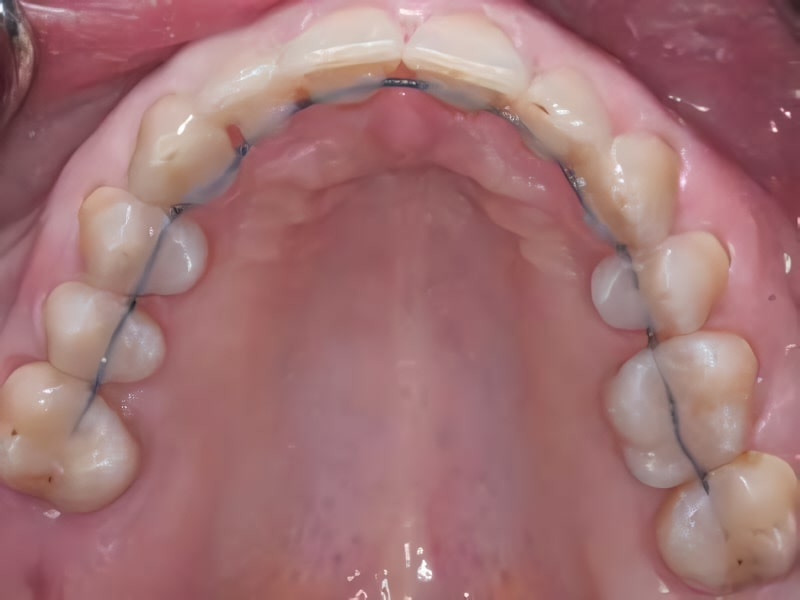UL1BC_decay: (580, 234, 737, 339)
UL1M_decay: (652, 452, 800, 594)
UL2BC_decay: (603, 327, 752, 490)
ULCI_decay: (401, 1, 522, 126)
ULC_decay: (561, 136, 699, 245)
ULLI_decay: (527, 52, 607, 176)
UR1BC_decay: (78, 187, 211, 305)
UR1M_decay: (1, 361, 146, 516)
UR2BC_decay: (37, 278, 173, 387)
URCI_decay: (290, 3, 405, 120)
URC_decay: (124, 95, 243, 202)
URLI_decay: (209, 46, 288, 149)
